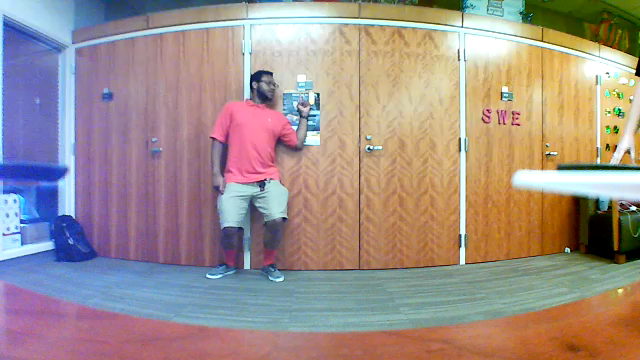up: (294, 91, 313, 120)
